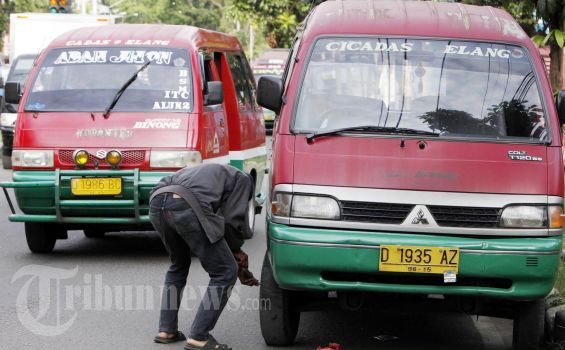plate: (379, 242, 459, 274)
